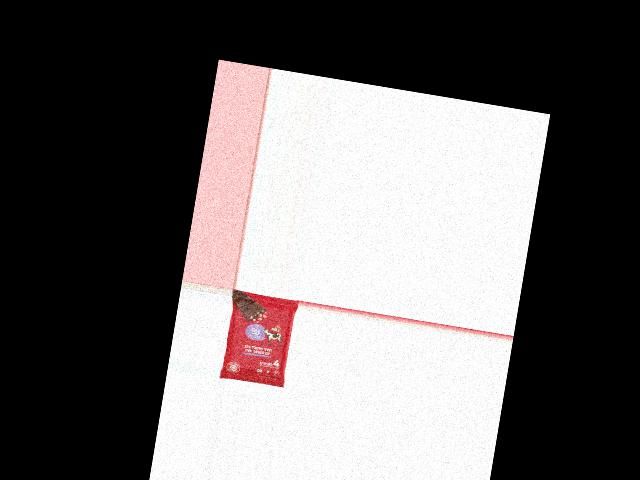chocolate: (220, 290, 298, 389)
